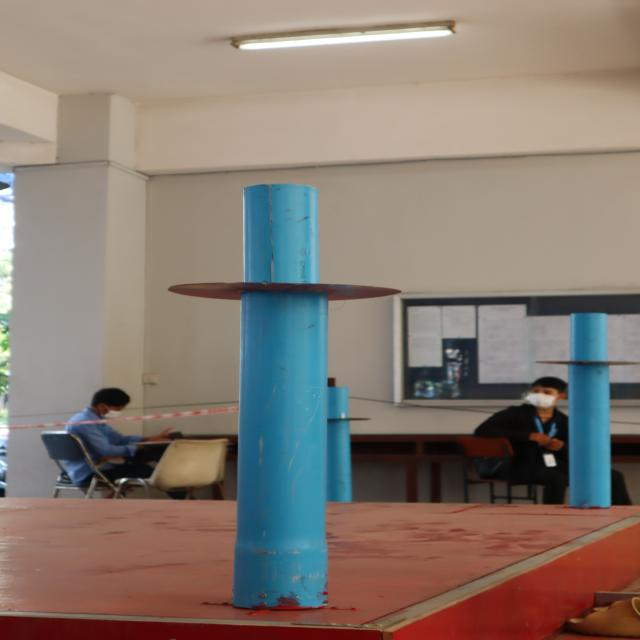pole: (168, 177, 386, 366), (530, 306, 640, 416)
